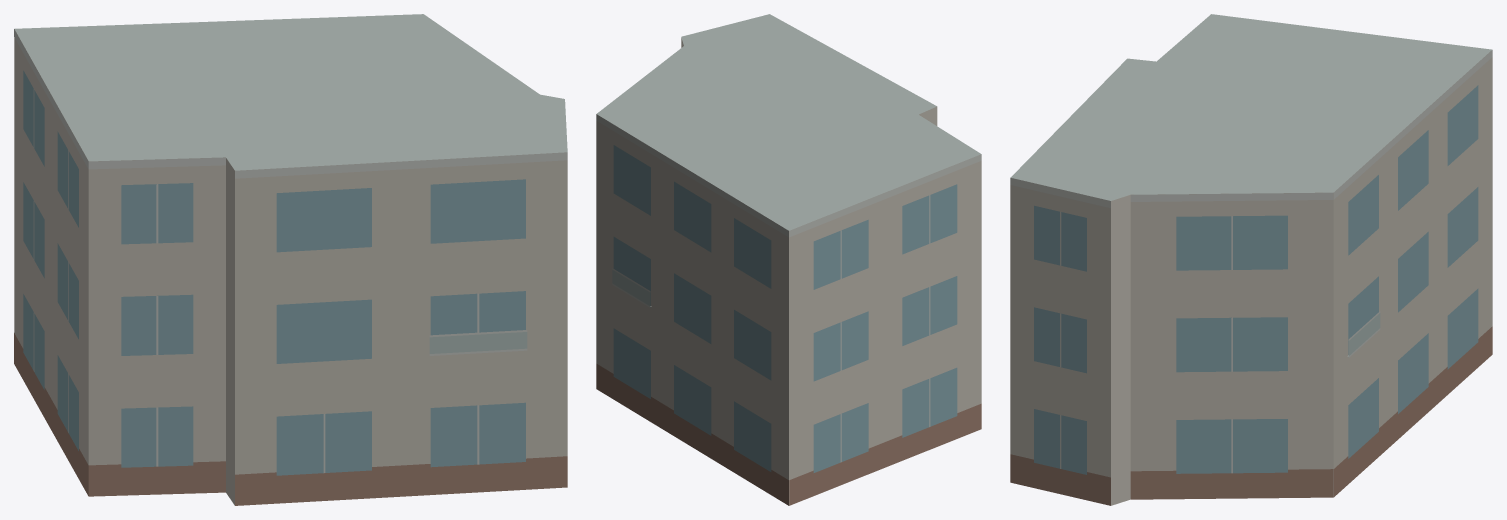
The model's file is survey-upis-32972820.glb.
3 views of the same model, side by side, from view 1: azimuth 30°, elevation 25°; view 2: azimuth 150°, elevation 25°; view 3: azimuth 270°, elevation 25° (orthographic). The views are drawn at different scales.
Parts seen in each view (by area): view 1: survey-upis-32972820.tmp; view 2: survey-upis-32972820.tmp; view 3: survey-upis-32972820.tmp.
Boxes of the visible parts, box(x1,y1,x2,y2) form: survey-upis-32972820.tmp: box(14, 14, 567, 505); survey-upis-32972820.tmp: box(596, 14, 981, 505); survey-upis-32972820.tmp: box(1010, 14, 1492, 505).
Bounding box in the file's own units: 13.43 × 10.2 × 14.63.
